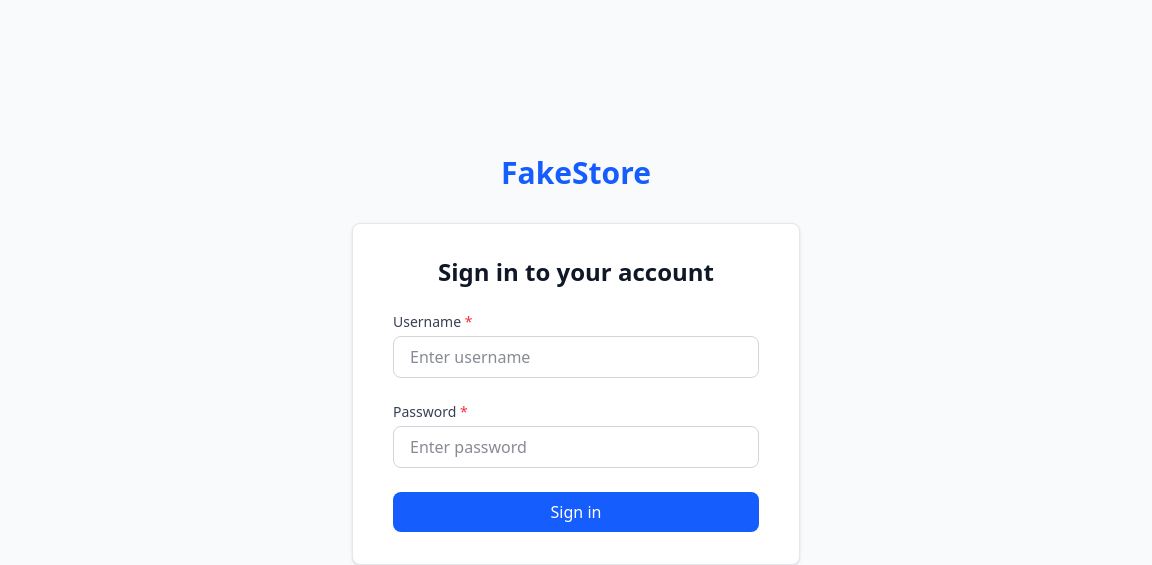
Test: Admin Pages › should access admin dashboard
Type "johnd" into the field with placeholder "Enter username". click: x=576, y=357
box: [393, 336, 759, 378]
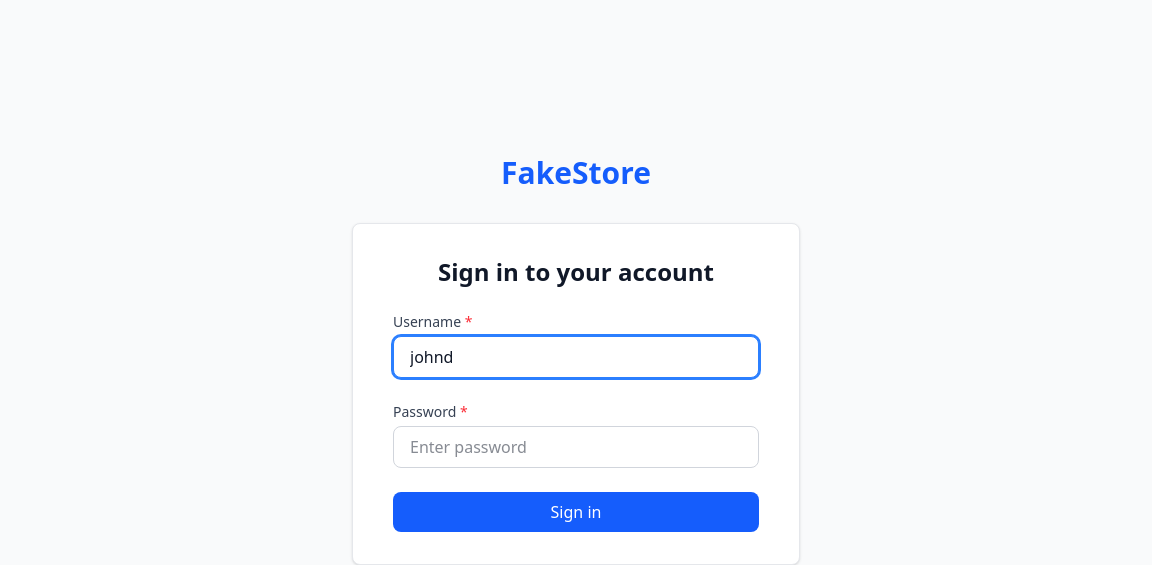
Type "m38rmF$" into the password field with placeholder "Enter password". click: x=576, y=447
box: [393, 426, 759, 468]
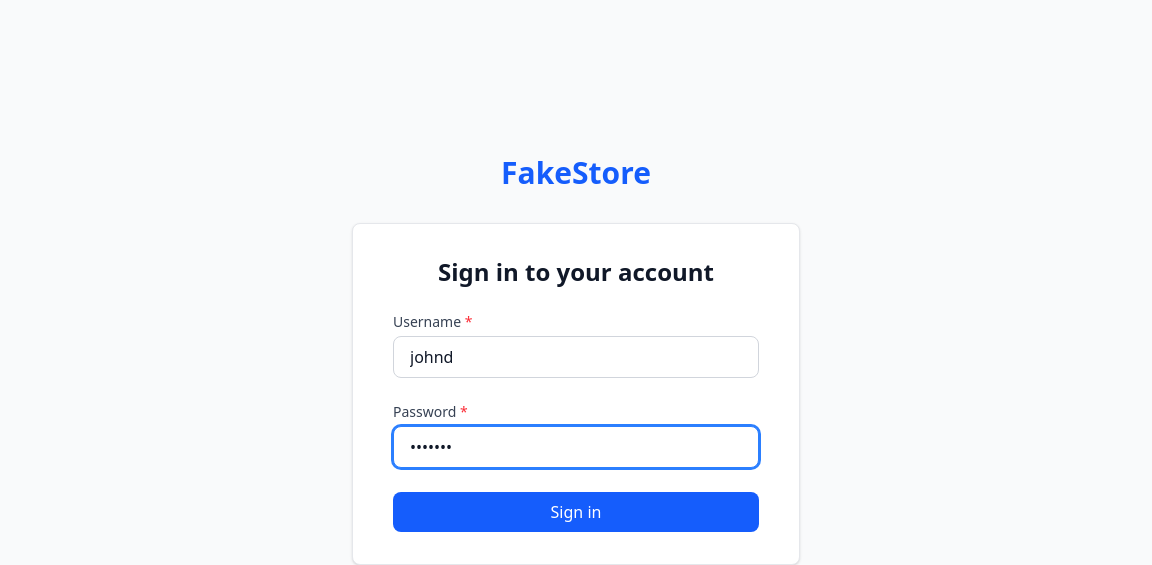
Click the submit button. click: x=576, y=512
box: [393, 492, 759, 532]
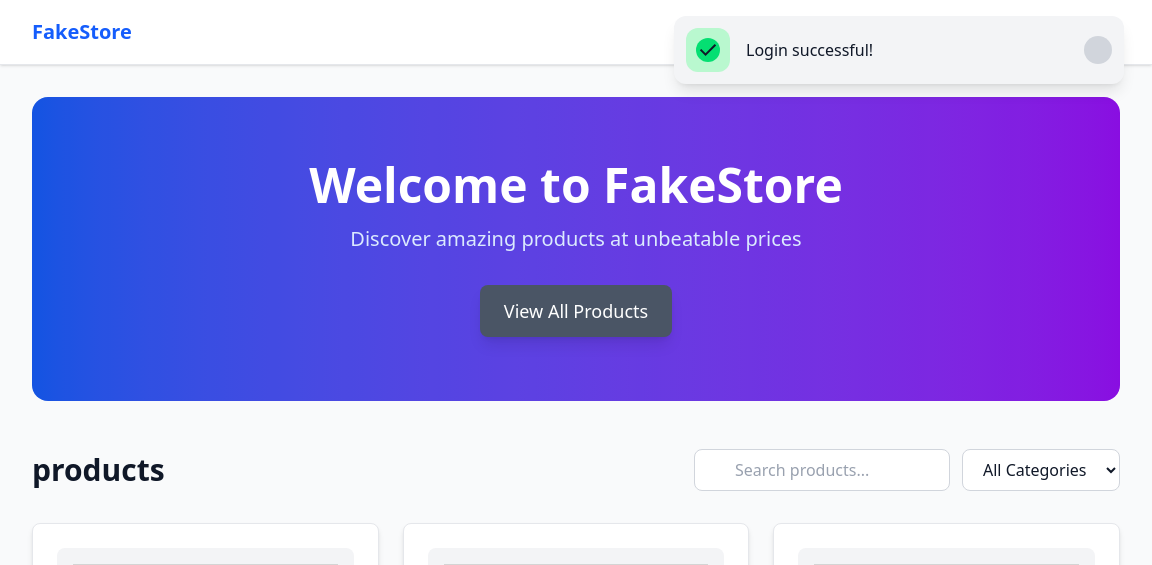
Open "/admin/dashboard"
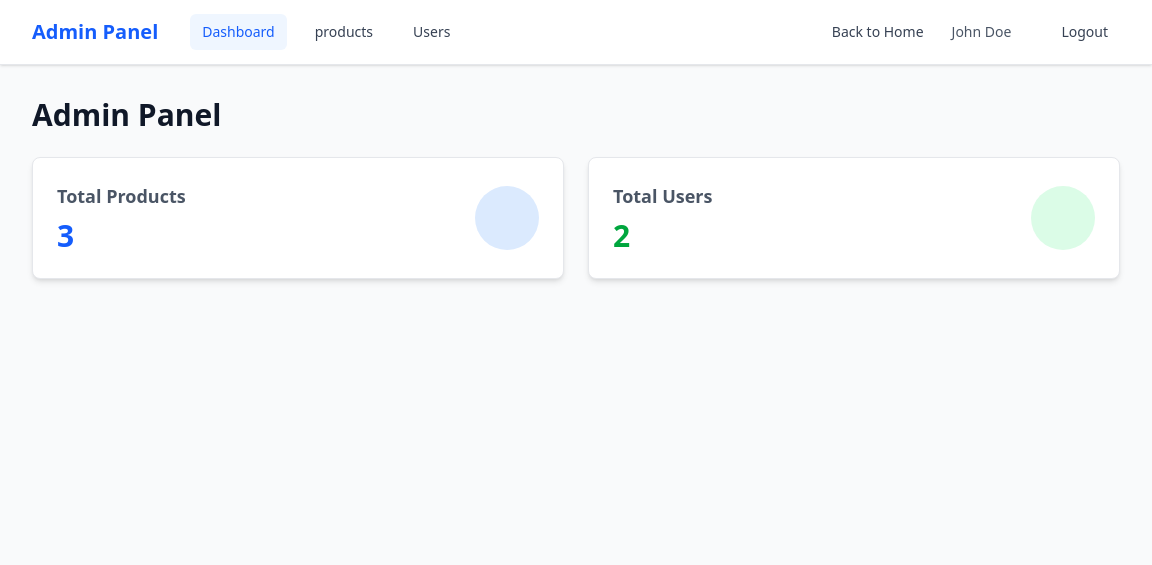
Now the text "3" is shown, box [57, 215, 74, 256]
Now the text "2" is shown, box [613, 215, 630, 256]
Now the element with test id "admin-dashboard" is shown, box [32, 97, 1120, 279]
